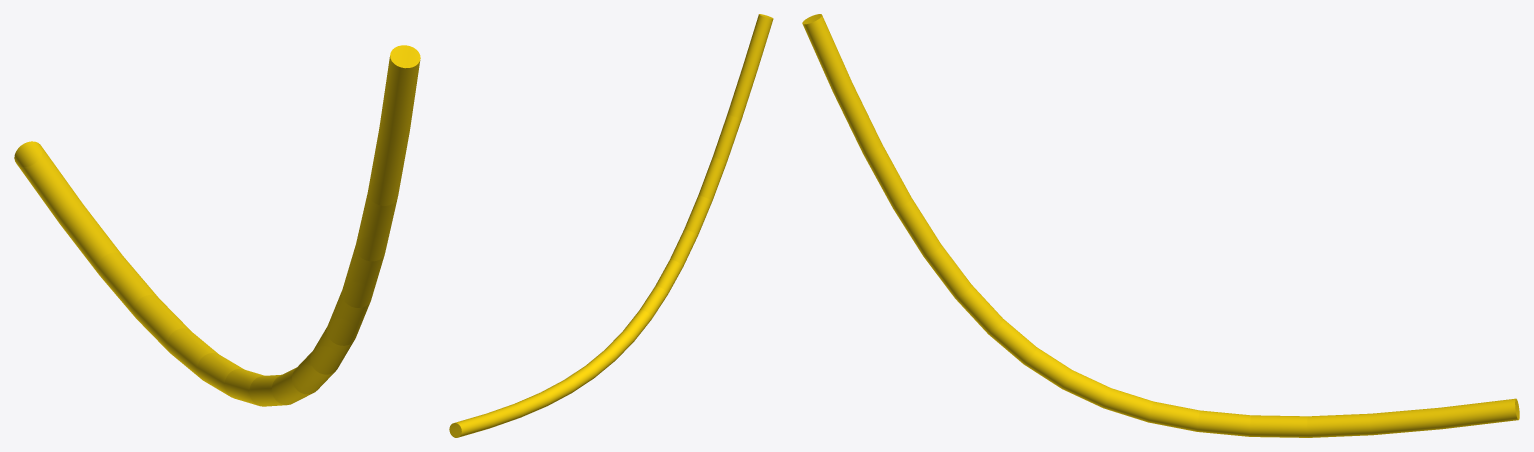
The model's file is Event_421115418_track_207.fbx.
3 views of the same model, side by side, from view 1: azimuth 30°, elevation 25°; view 2: azimuth 150°, elevation 25°; view 3: azimuth 270°, elevation 25° (orthographic). The views are drawn at different scales.
Visible parts, largest first — view 1: Model; view 2: Model; view 3: Model.
Part boxes in pixels (x1,y1,x2,y2): Model: [14, 45, 420, 406]; Model: [449, 14, 773, 437]; Model: [802, 14, 1519, 437].
Size of the model in its own units: 0.2234 by 0.7954 by 1.32.
